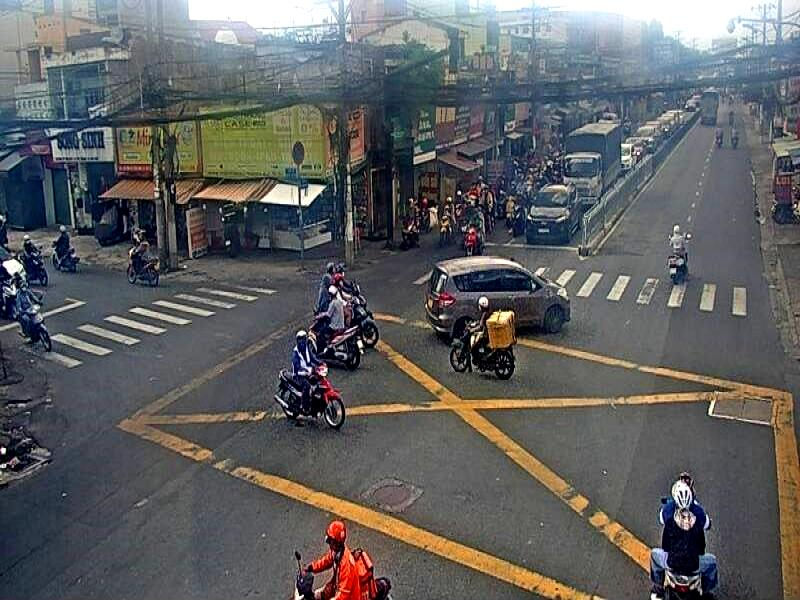car: (423, 254, 582, 338), (527, 179, 578, 249)
motorcycle: (271, 356, 343, 439)
truck: (560, 112, 625, 204)
